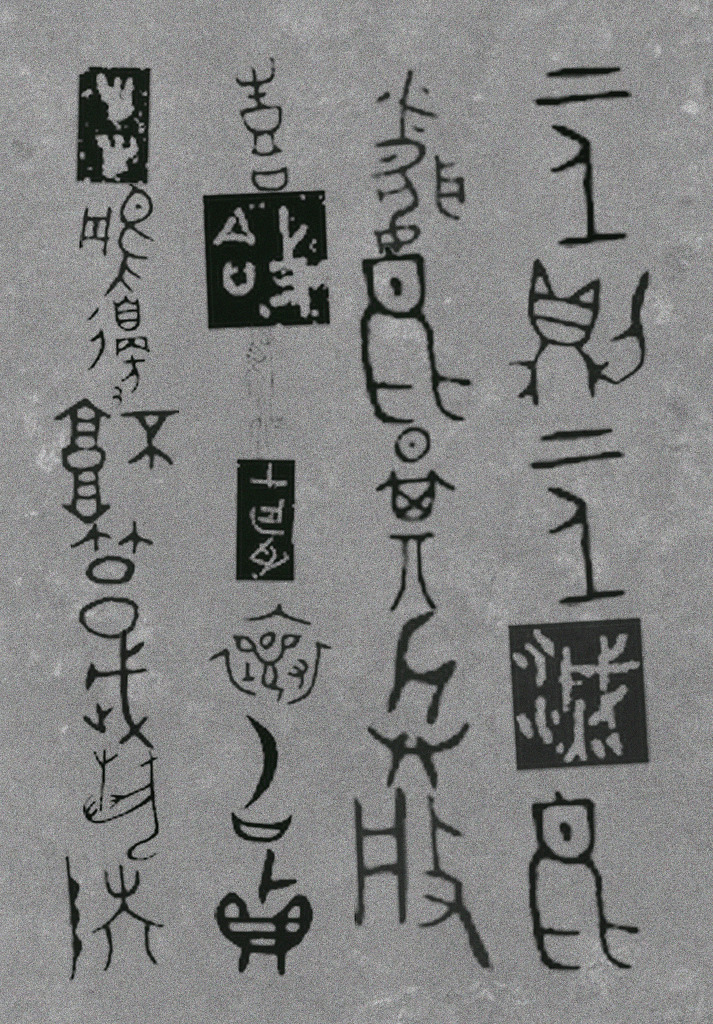char: (350, 783, 494, 973), (505, 614, 653, 774), (522, 787, 645, 976), (354, 243, 477, 430), (505, 254, 653, 409), (361, 605, 474, 794), (367, 65, 469, 261), (530, 61, 635, 251), (200, 187, 334, 334), (527, 424, 629, 610), (53, 395, 180, 527), (373, 422, 459, 616), (211, 847, 317, 979), (205, 601, 335, 708), (63, 853, 167, 984), (68, 516, 157, 644), (72, 63, 154, 189), (76, 180, 159, 300), (80, 626, 157, 753), (81, 746, 162, 863), (230, 53, 293, 197), (228, 711, 295, 846), (231, 454, 299, 585), (84, 293, 152, 410), (243, 322, 288, 462)
